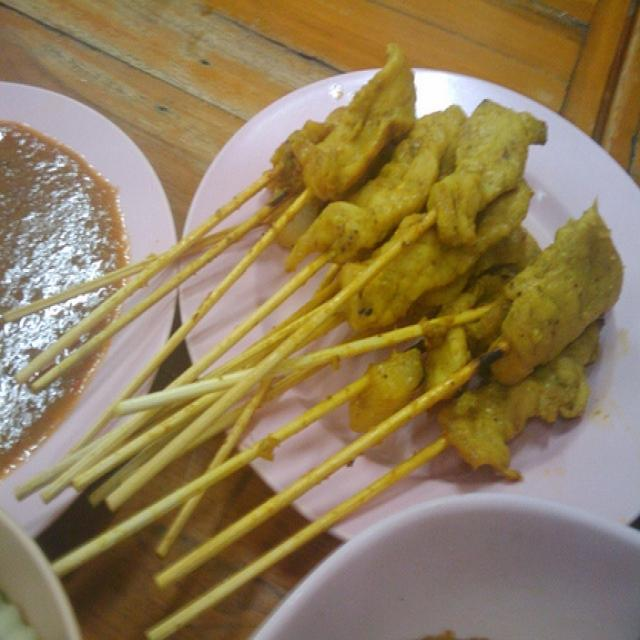牛肉菜式: (28, 34, 618, 618)
